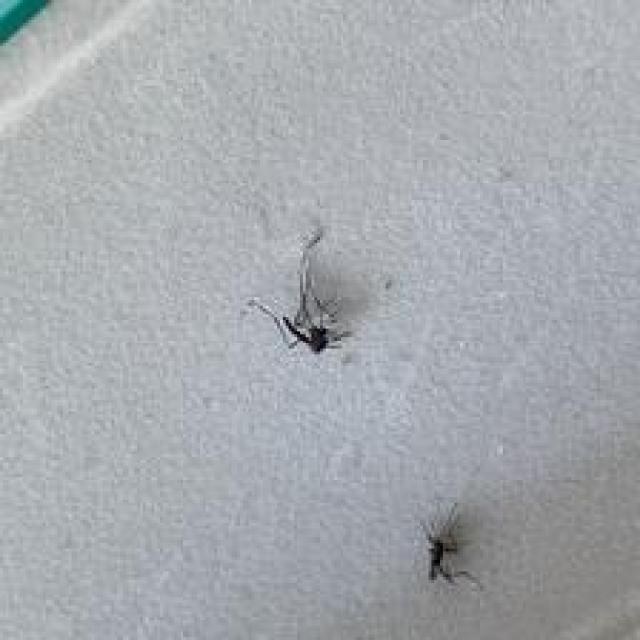Aedes albopictus: (247, 224, 353, 356)
